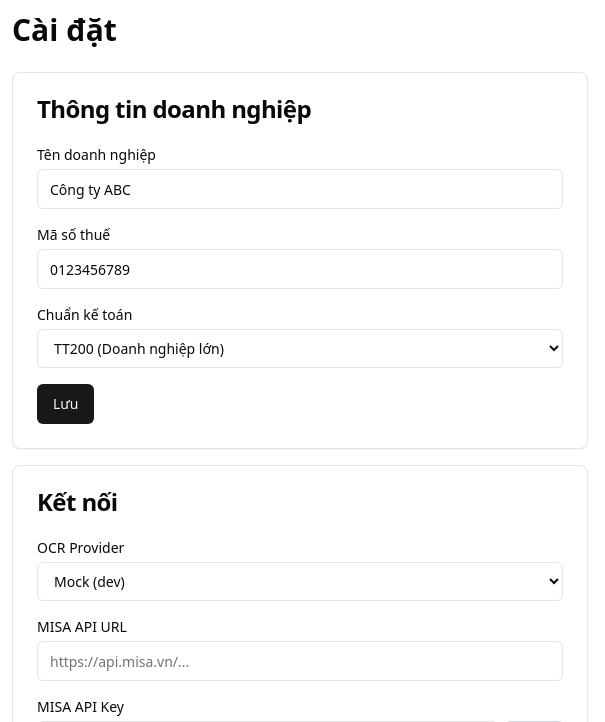
Test: SettingsPage › shows success message after save
Check: the field showing "Công ty ABC" is shown, box [37,169,563,209]
Click the button "Lưu": {"x": 66, "y": 404} [37,384,94,424]
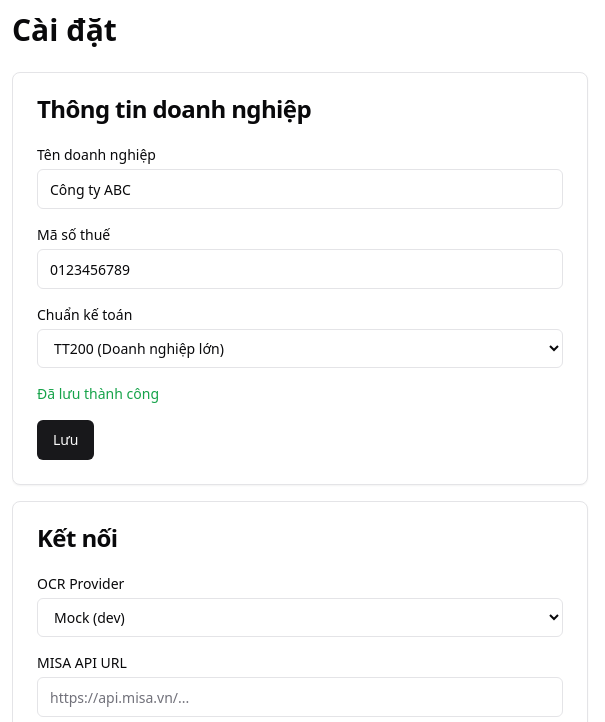
Check: the text "Đã lưu thành công" is shown, box [37,384,159,403]
